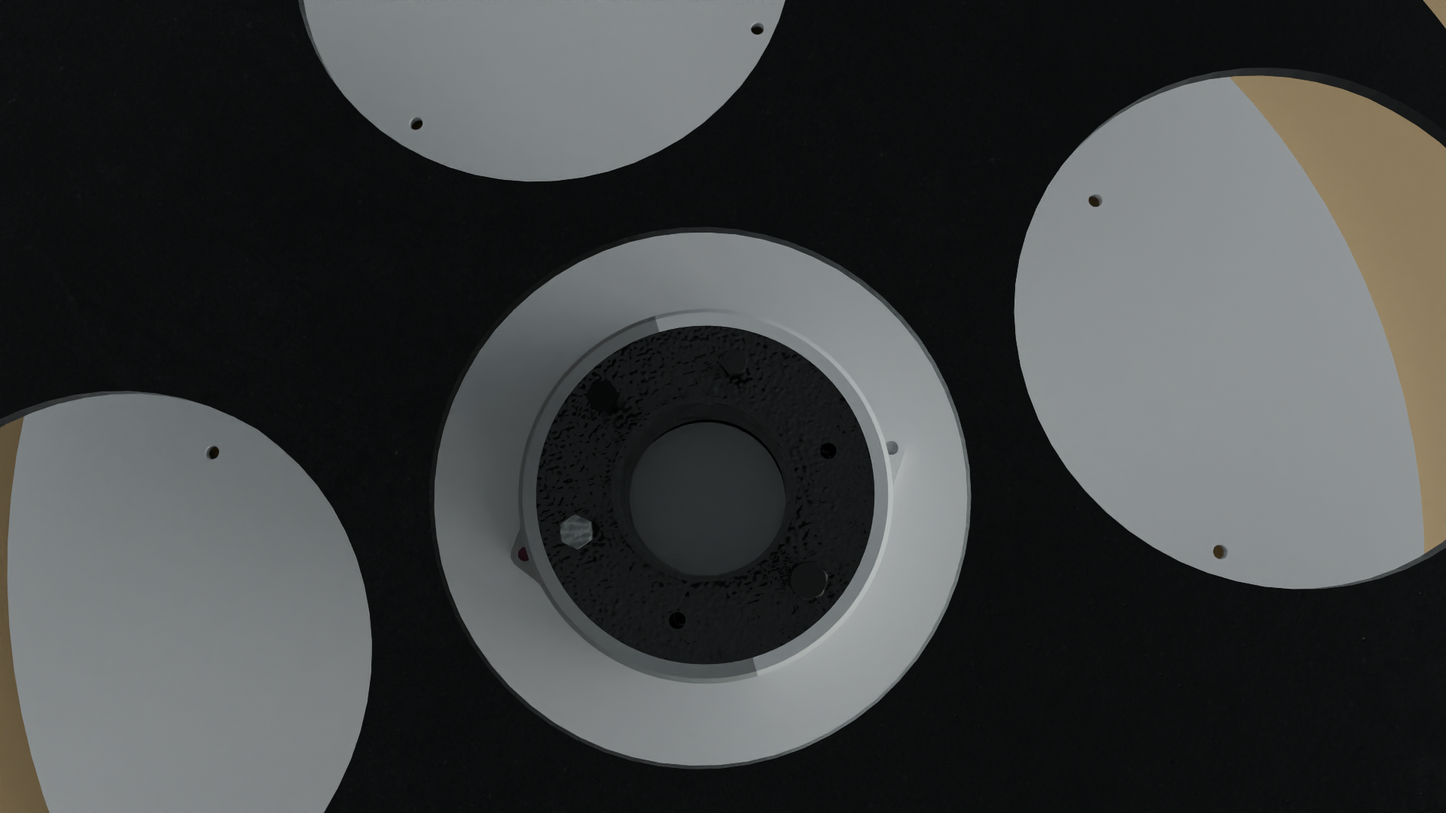bolt: (789, 560, 828, 600), (560, 514, 591, 549), (585, 380, 618, 410), (721, 349, 748, 375)
